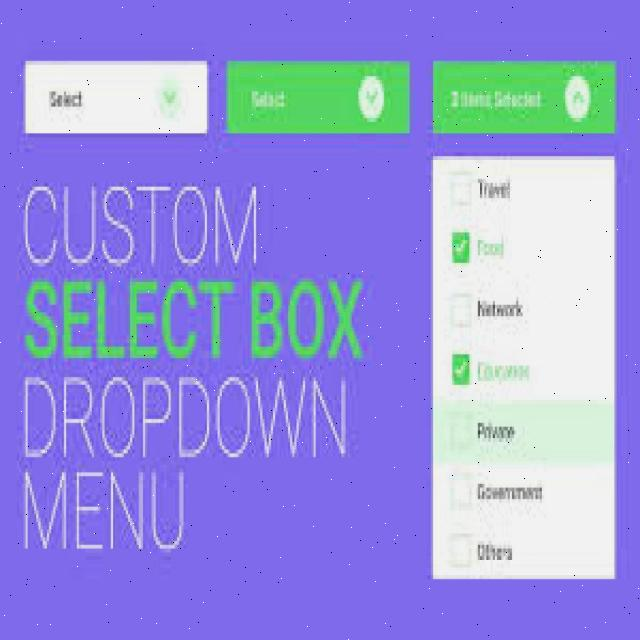checkbox: (448, 418, 475, 451), (446, 533, 470, 567), (452, 293, 472, 328), (448, 477, 470, 508), (452, 172, 472, 205), (452, 232, 470, 264), (452, 354, 470, 385)
dropdownMenu: (435, 62, 617, 578), (25, 60, 207, 134), (226, 62, 410, 135)
menuItem: (443, 470, 551, 515), (443, 411, 527, 453), (447, 289, 537, 328), (445, 166, 528, 206), (448, 348, 533, 386), (443, 527, 518, 568), (445, 226, 521, 265)
